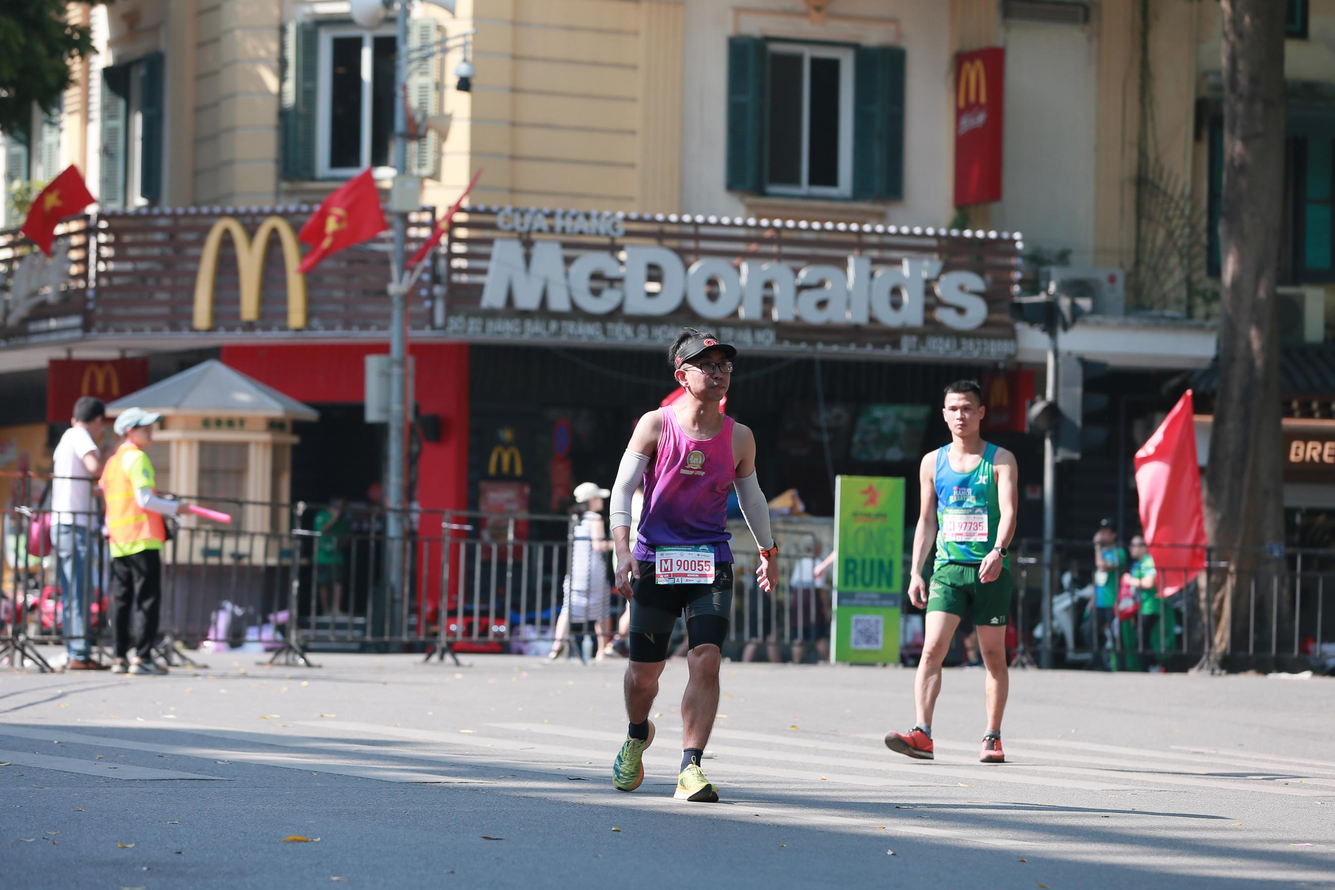bib: (655, 544, 715, 584), (942, 507, 988, 541)
